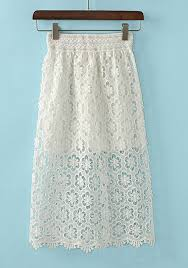C_skirt: (15, 28, 164, 255)
